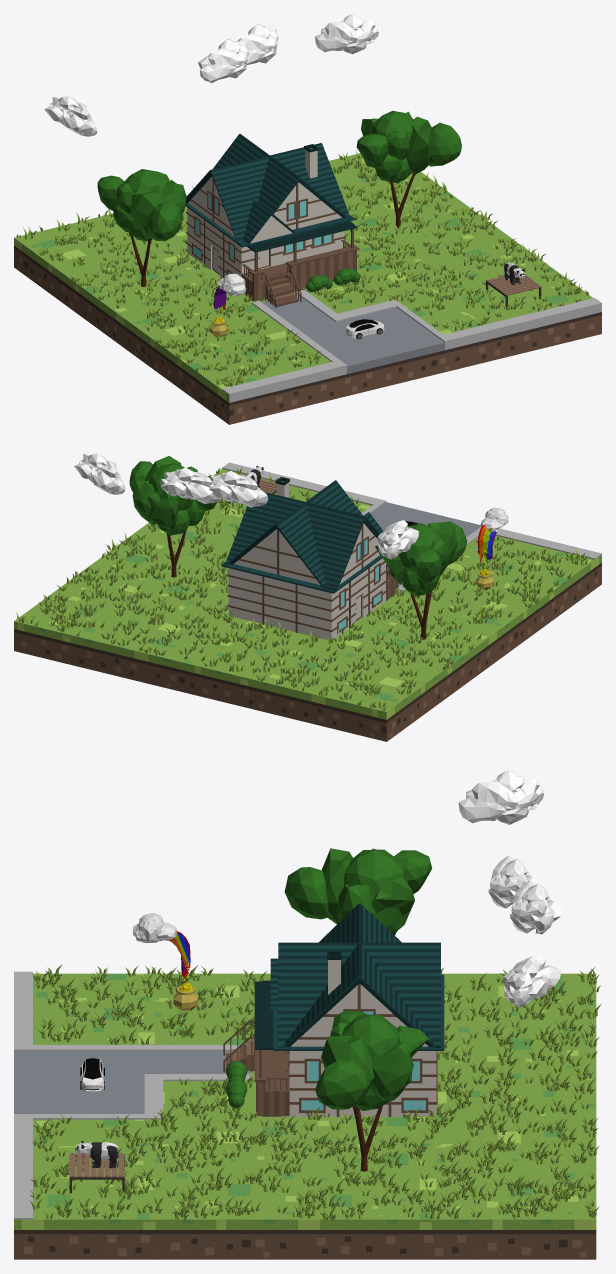
The picture shows the model from 3 angles, top to bottom: view 1: azimuth 30°, elevation 25°; view 2: azimuth 150°, elevation 25°; view 3: azimuth 270°, elevation 25°; orthographic projection. The views are drawn at different scales.
Visible parts, largest first — view 1: Cube.006, Cube.793, Circle.012_Grass_0.192, Cube.007, tree, tree.001, OBJRANDOM_RAINBOW, Cube.009, VEHICLES_TESLA; view 2: Cube.006, Cube.793, Circle.012_Grass_0.192, Cube.007, tree.001, tree, OBJRANDOM_RAINBOW; view 3: Cube.006, Circle.012_Grass_0.192, Cube.793, tree, Cube.007, tree.001, OBJRANDOM_RAINBOW, Cube.009, ANIMAL_PANDA, VEHICLES_TESLA.
Boxes of the visible parts, x1,y1,x2,y2 form: Cube.006: (14, 153, 601, 424); Cube.793: (185, 134, 359, 307); Circle.012_Grass_0.192: (16, 150, 588, 386); Cube.007: (44, 14, 378, 136); tree: (356, 110, 461, 228); tree.001: (97, 169, 186, 286); OBJRANDOM_RAINBOW: (209, 273, 246, 337); Cube.009: (486, 275, 541, 306); VEHICLES_TESLA: (345, 319, 384, 339); Cube.006: (14, 462, 601, 741); Cube.793: (221, 477, 398, 640); Circle.012_Grass_0.192: (16, 468, 588, 711); Cube.007: (74, 453, 418, 559); tree.001: (375, 521, 467, 639); tree: (129, 456, 216, 577); OBJRANDOM_RAINBOW: (475, 507, 508, 590); Cube.006: (14, 971, 596, 1259); Circle.012_Grass_0.192: (29, 964, 601, 1220); Cube.793: (223, 903, 444, 1116); tree: (315, 1010, 428, 1171); Cube.007: (458, 770, 561, 1007); tree.001: (284, 848, 432, 935); OBJRANDOM_RAINBOW: (133, 913, 198, 1010); Cube.009: (69, 1153, 124, 1193); ANIMAL_PANDA: (75, 1141, 118, 1168); VEHICLES_TESLA: (80, 1058, 104, 1091).
Bounding box in the file's own units: 4071 × 2175 × 4040.
Materials: 31 (4 with a texture image).
